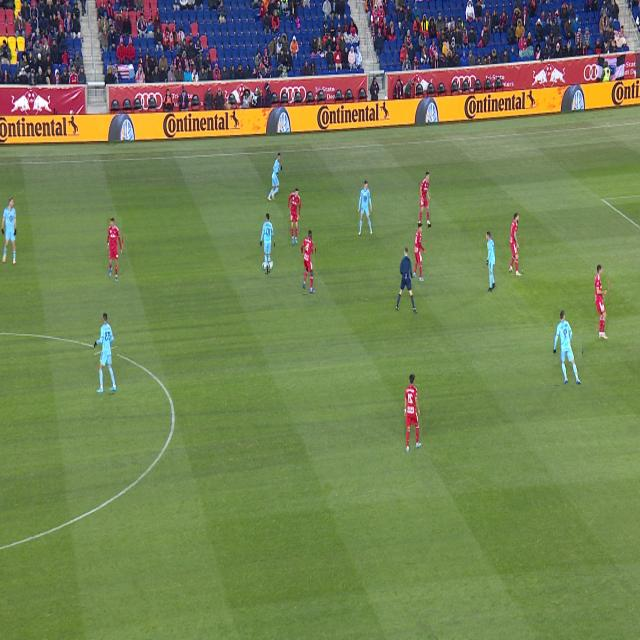football: (268, 262, 273, 271)
player: (554, 310, 582, 385), (94, 312, 117, 393), (404, 373, 422, 453), (2, 196, 17, 265), (595, 263, 608, 340), (108, 217, 122, 281), (358, 180, 373, 236), (302, 230, 315, 294), (510, 212, 522, 277), (261, 214, 274, 273), (413, 223, 426, 282), (267, 152, 282, 201), (418, 171, 431, 227), (289, 188, 300, 244), (486, 230, 495, 292)
referee: (396, 246, 417, 313)
